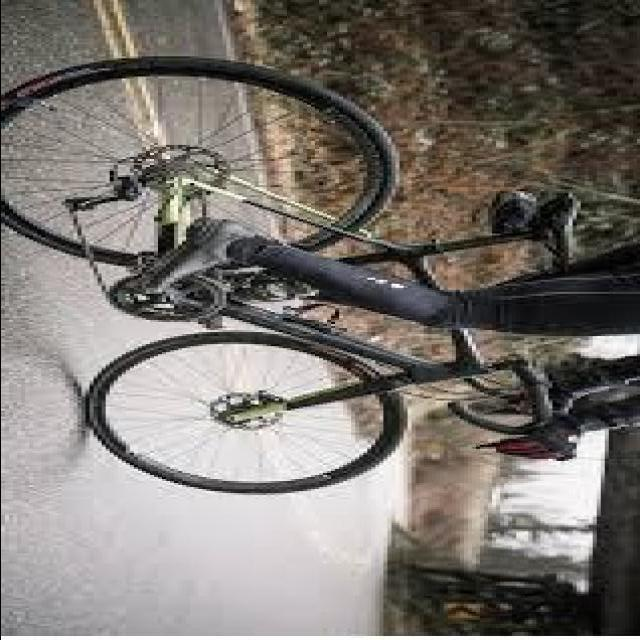bicycle: (1, 63, 597, 487)
